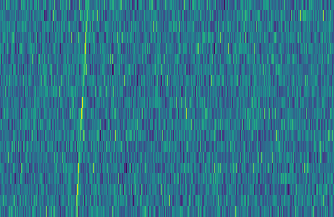signal: (69, 0, 90, 217)
